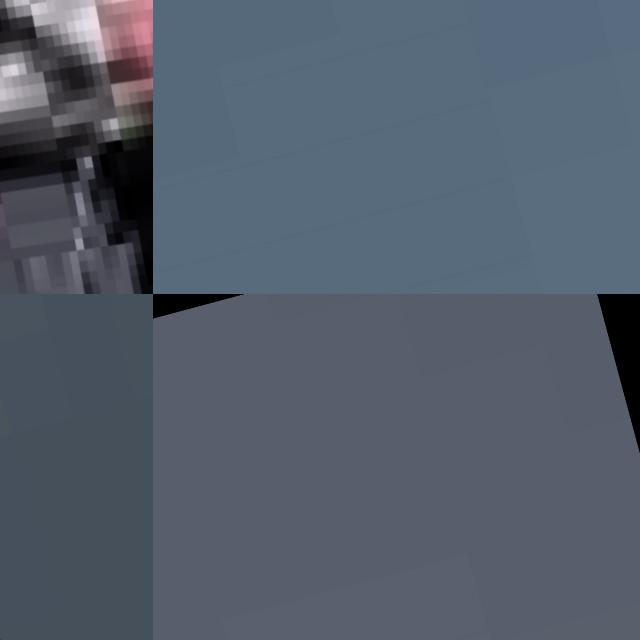drone: (0, 0, 153, 294)
